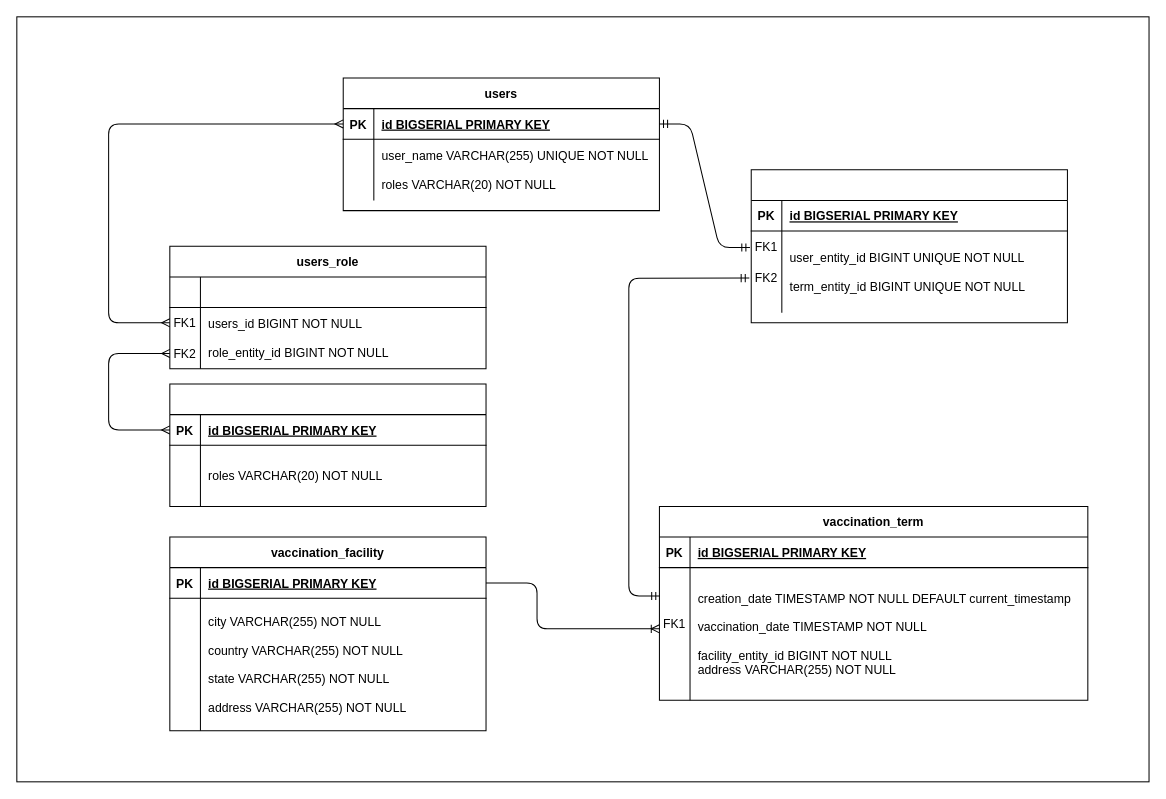
This 1166x799 diagram has some shape labels left out. The box of each missing label's shape, as (x1, y1, x2, y2) in pixels:
role_entity: (169, 383, 486, 506)
vaccinated_users: (750, 169, 1067, 323)
